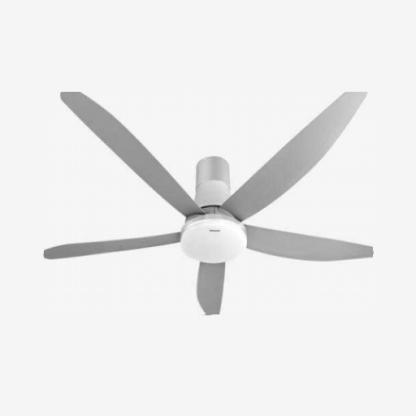ceiling-fan: (44, 92, 374, 315)
